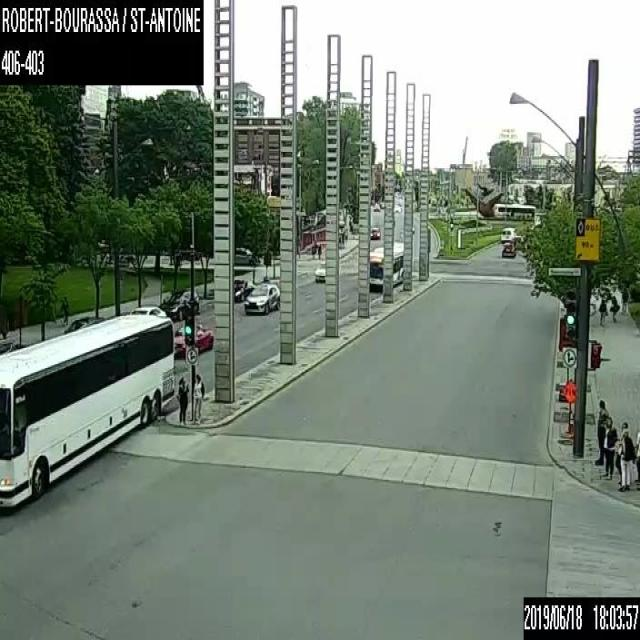bus: (0, 313, 172, 506), (369, 241, 403, 292), (493, 200, 535, 219)
construction: (562, 377, 574, 436)
pedestrian: (617, 428, 637, 490), (599, 415, 616, 480), (594, 399, 608, 464), (175, 376, 190, 428), (615, 422, 627, 484), (192, 372, 205, 424), (608, 294, 620, 322), (633, 430, 639, 484), (60, 293, 70, 323), (598, 298, 608, 326), (310, 240, 322, 260), (621, 286, 628, 313)
vehicle: (234, 273, 278, 315), (158, 287, 198, 319), (173, 324, 213, 356), (64, 315, 104, 333), (234, 246, 264, 266), (131, 304, 165, 317), (500, 225, 516, 241), (314, 258, 324, 282), (0, 338, 15, 353), (501, 241, 515, 256), (370, 224, 380, 240), (373, 200, 382, 212), (394, 200, 401, 212)
